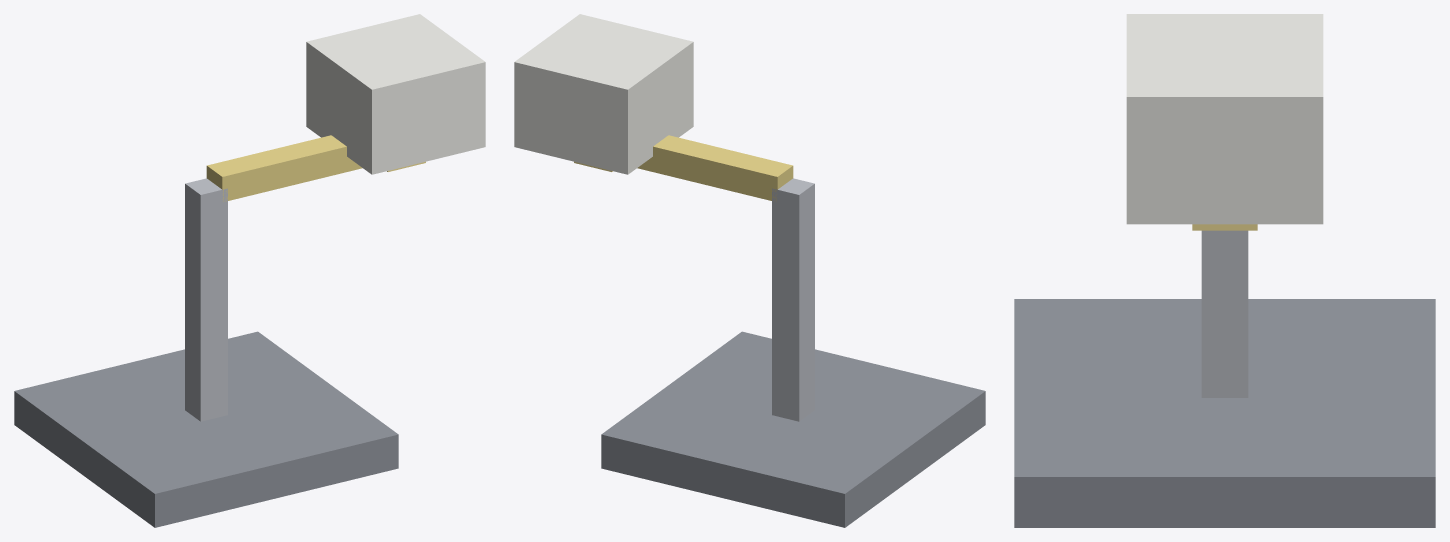
3 renders of one model, left to right at view 1: azimuth 30°, elevation 25°; view 2: azimuth 150°, elevation 25°; view 3: azimuth 270°, elevation 25°, orthographic. The views are drawn at different scales.
Parts seen in each view (by area): view 1: base, shade, pole, arm; view 2: base, shade, pole, arm; view 3: base, shade, pole.
Part boxes in pixels (box(x1,y1,x2,y2)): base: box(14, 331, 398, 527); shade: box(306, 14, 485, 174); pole: box(185, 178, 227, 421); arm: box(206, 135, 362, 201); base: box(601, 331, 985, 527); shade: box(514, 14, 693, 174); pole: box(772, 178, 814, 421); arm: box(637, 135, 793, 201); base: box(1014, 299, 1435, 527); shade: box(1126, 14, 1323, 224); pole: box(1201, 230, 1248, 397).
Size of the model in its own units: 1.36 by 1.23 by 0.9.
